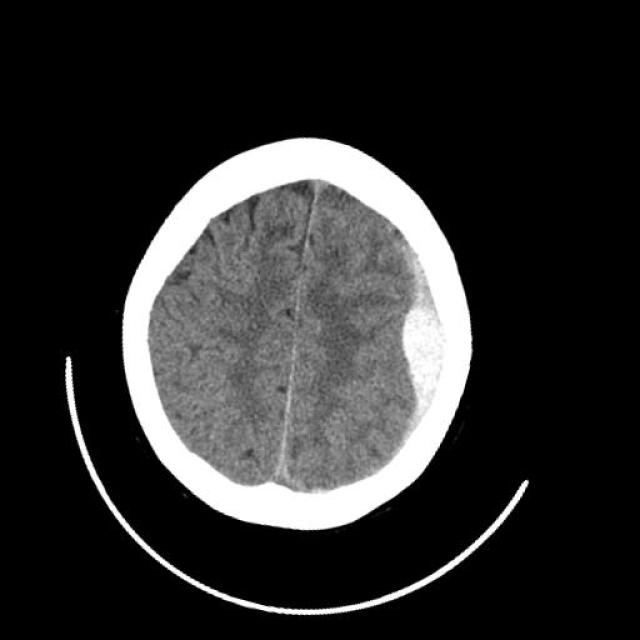Subdural: (329, 215, 505, 499)
